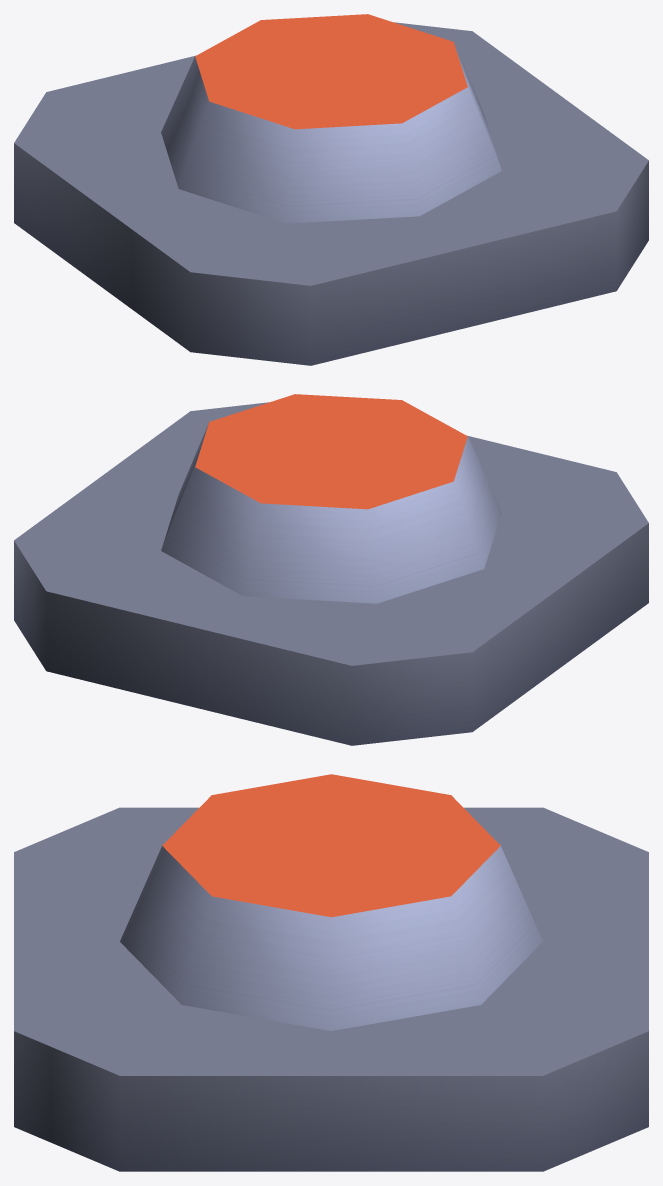
The model's file is button-floor-round-small.fbx.
3 views of the same model, one above another, from view 1: azimuth 30°, elevation 25°; view 2: azimuth 150°, elevation 25°; view 3: azimuth 270°, elevation 25° (orthographic). The views are drawn at different scales.
Visible parts, largest first — view 1: button-floor-round-small, button; view 2: button-floor-round-small, button; view 3: button-floor-round-small, button.
Boxes of the visible parts, bbox=[...] form: button-floor-round-small: bbox=[14, 22, 648, 365]; button: bbox=[161, 14, 501, 223]; button-floor-round-small: bbox=[14, 402, 648, 745]; button: bbox=[161, 394, 501, 603]; button-floor-round-small: bbox=[14, 807, 648, 1171]; button: bbox=[120, 774, 542, 1030].
Bounding box in the file's own units: 30 × 10 × 30.
